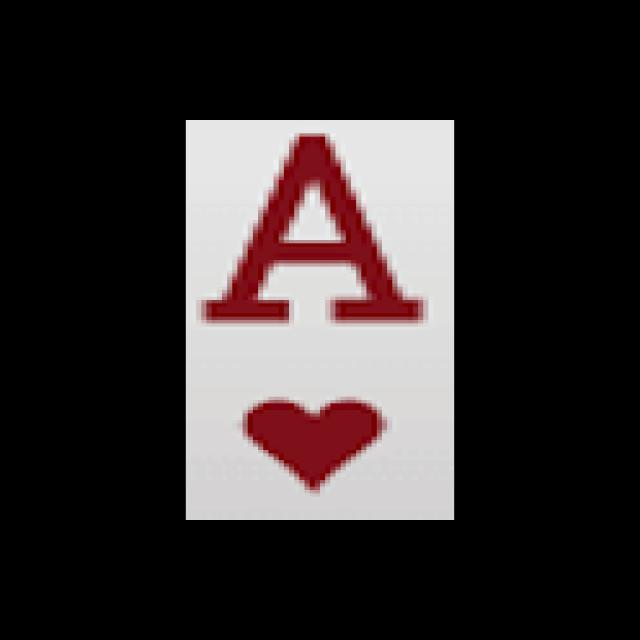AH: (195, 123, 440, 505)
